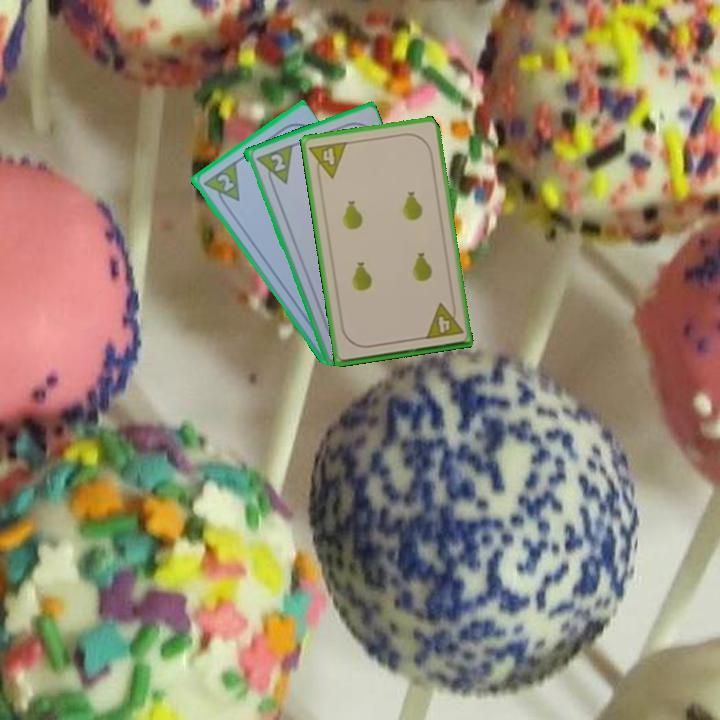2p: (199, 158, 243, 211), (266, 150, 288, 174)
4p: (306, 138, 350, 183), (421, 298, 466, 342)
